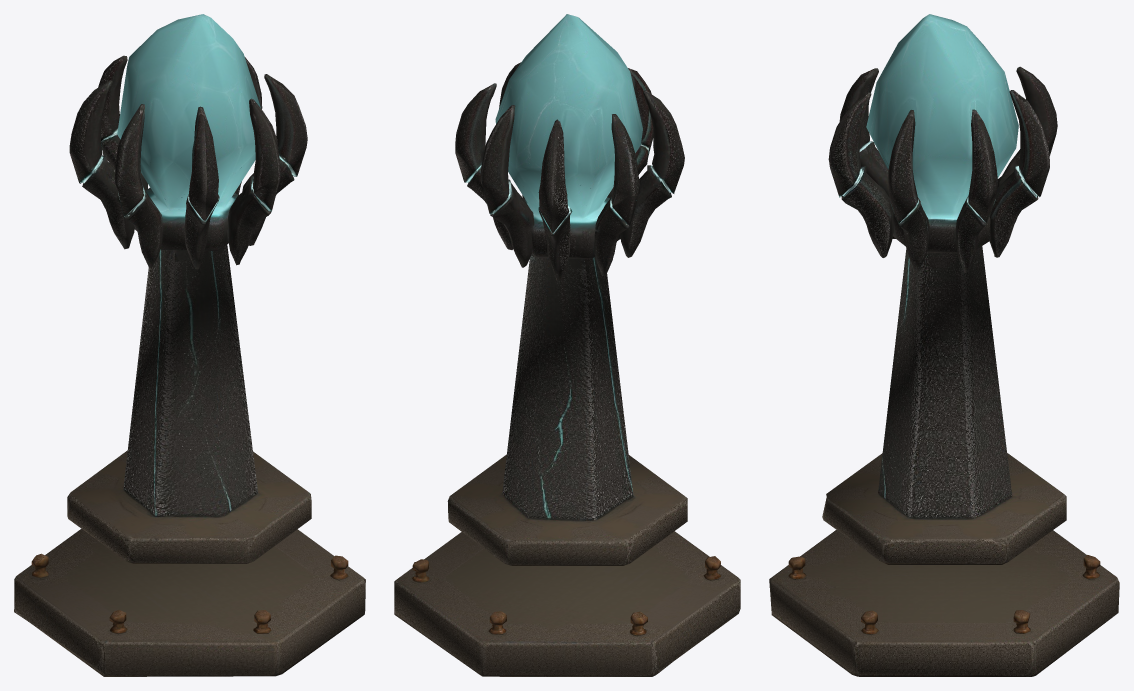
File: tripo_convert_928d6e6e-976c-4d4f-895b-4a5359b236b2.fbx
3 views of the same model, side by side, from view 1: azimuth 30°, elevation 25°; view 2: azimuth 150°, elevation 25°; view 3: azimuth 270°, elevation 25° (orthographic).
Parts seen in each view (by area): view 1: tripo_node_928d6e6e; view 2: tripo_node_928d6e6e; view 3: tripo_node_928d6e6e.
Boxes of the visible parts, x1,y1,x2,y2 form: tripo_node_928d6e6e: (14, 14, 365, 676); tripo_node_928d6e6e: (394, 14, 740, 676); tripo_node_928d6e6e: (769, 14, 1119, 676).
Bounding box in the file's own units: 0.4629 × 0.998 × 0.5293.
1 material, 1 textured.
